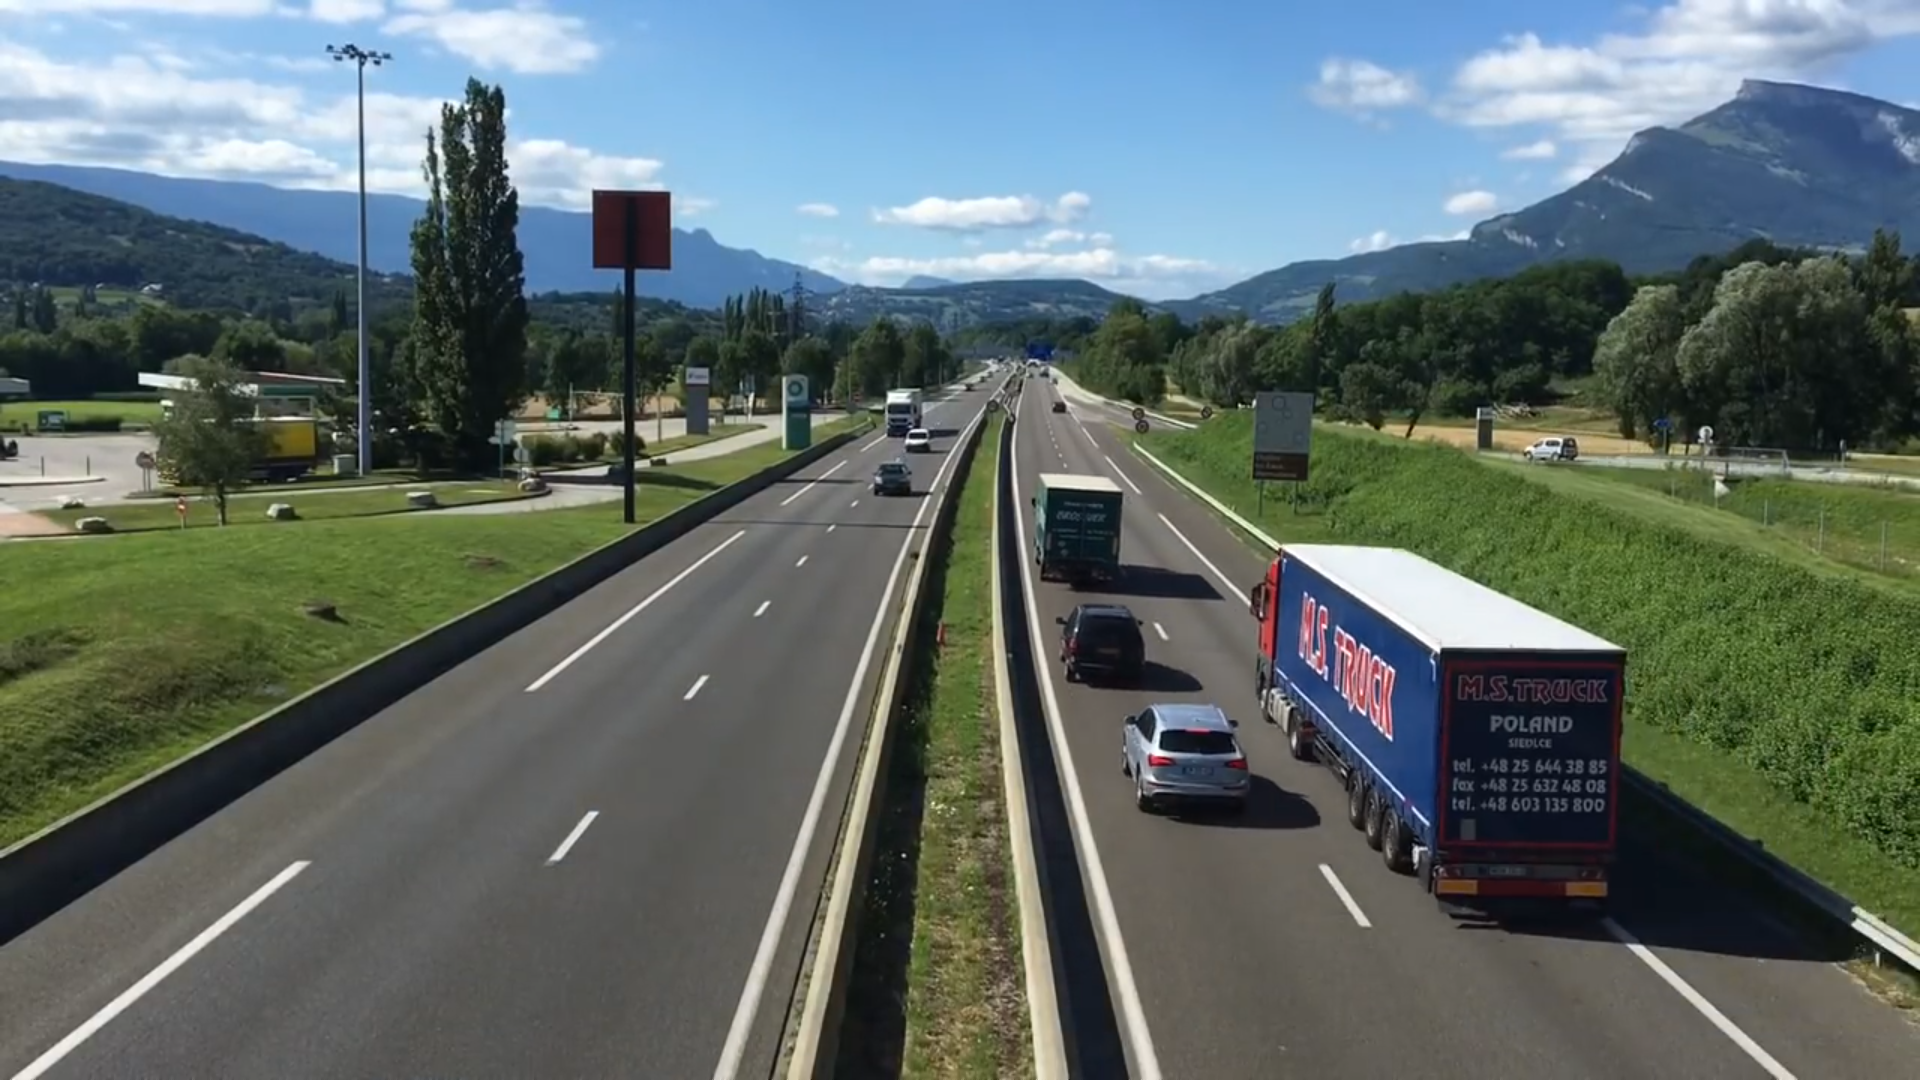HeavyVehicle: (1254, 541, 1629, 907), (1035, 473, 1124, 585)
LightVehicle: (1114, 702, 1251, 815), (1058, 601, 1154, 687), (874, 458, 911, 498)
